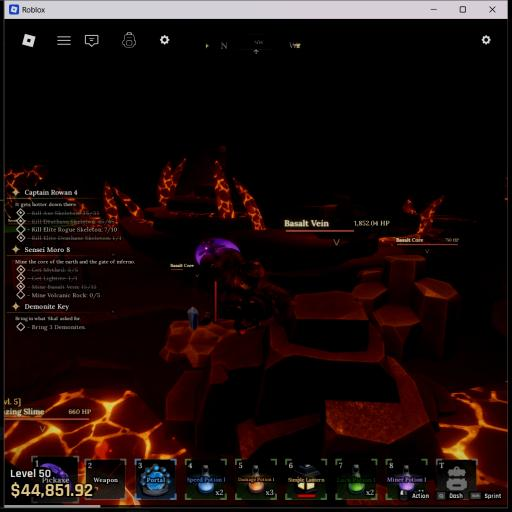player: (218, 252, 295, 326)
rock: (164, 290, 456, 458), (351, 256, 460, 362), (385, 256, 459, 337), (160, 320, 235, 368), (318, 194, 368, 229), (341, 233, 354, 240)
